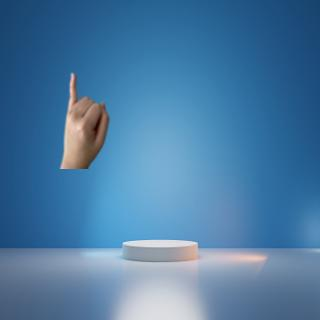FINE: (60, 71, 111, 165)
